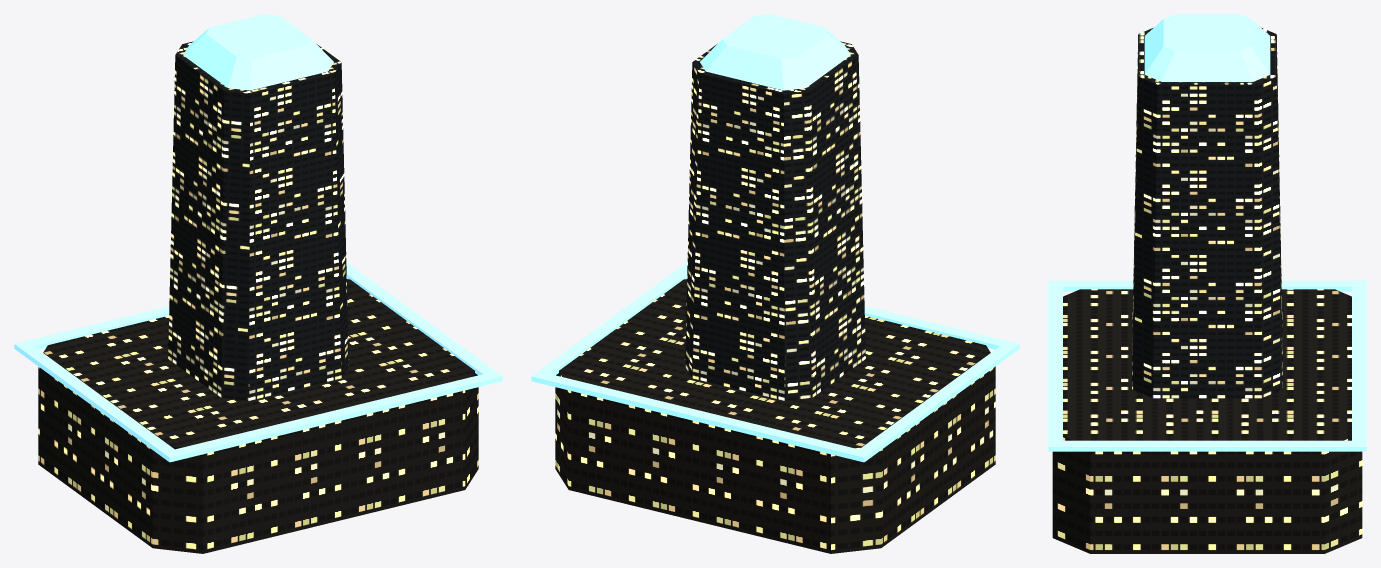
Rendered from komtar-jbcc.glb.
The picture shows the model from 3 angles, left to right: view 1: azimuth 30°, elevation 25°; view 2: azimuth 150°, elevation 25°; view 3: azimuth 270°, elevation 25°; orthographic projection. The views are drawn at different scales.
Visible parts, largest first — view 1: podium, tower, podium-led, crown; view 2: podium, tower, podium-led, crown; view 3: podium, tower, podium-led, crown.
Boxes of the visible parts, x1,y1,x2,y2 form: podium: (38,279,478,553); tower: (168,41,348,400); podium-led: (14,262,502,462); crown: (183,14,333,90); podium: (555,279,995,553); tower: (685,41,865,400); podium-led: (531,262,1019,462); crown: (700,14,850,90); podium: (1052,289,1362,553); tower: (1132,28,1282,398); podium-led: (1048,280,1366,451); crown: (1144,14,1270,81).
Size of the model in its own units: 94 by 116 by 76.
3 materials, 2 textured.
